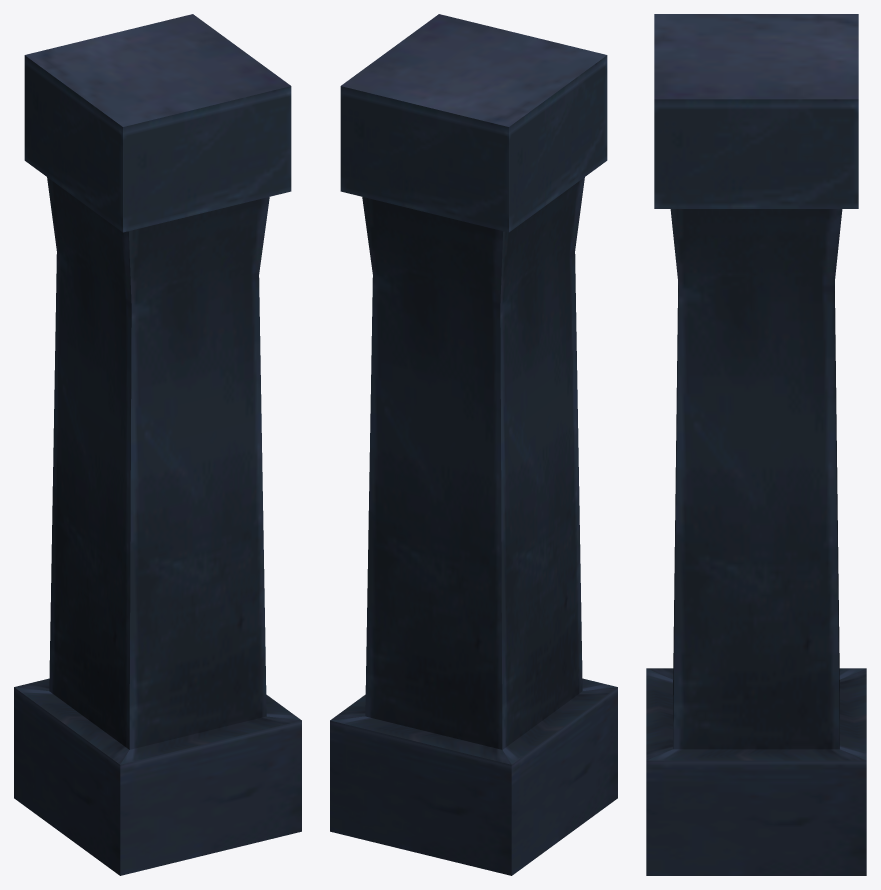
Rendered from 10109_boss02.FBX.
3 renders of one model, left to right at view 1: azimuth 30°, elevation 25°; view 2: azimuth 150°, elevation 25°; view 3: azimuth 270°, elevation 25°, orthographic. The views are drawn at different scales.
Visible parts, largest first — view 1: 10109_boss02; view 2: 10109_boss02; view 3: 10109_boss02.
Part boxes in pixels (x1,y1,x2,y2): 10109_boss02: (14, 14, 301, 875); 10109_boss02: (330, 14, 617, 875); 10109_boss02: (646, 14, 866, 875).
Bounding box in the file's own units: 217 × 848 × 219.
